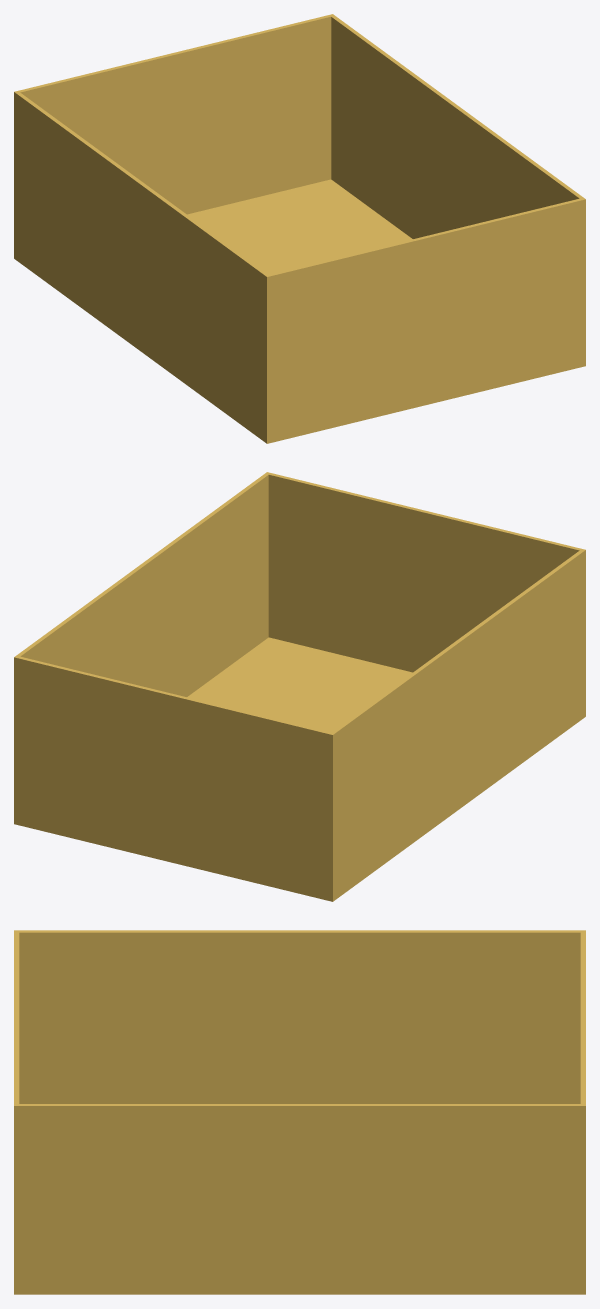
The model's file is boite_de_rangementv5.dae.
3 renders of one model, top to bottom at view 1: azimuth 30°, elevation 25°; view 2: azimuth 150°, elevation 25°; view 3: azimuth 270°, elevation 25°, orthographic. The views are drawn at different scales.
Visible parts, largest first — view 1: Boite de rangement; view 2: Boite de rangement; view 3: Boite de rangement.
Part boxes in pixels (bbox=[...]): Boite de rangement: bbox=[14, 14, 585, 443]; Boite de rangement: bbox=[14, 472, 585, 901]; Boite de rangement: bbox=[14, 930, 585, 1294].
Size of the model in its own units: 0.16 by 0.22 by 0.08.
